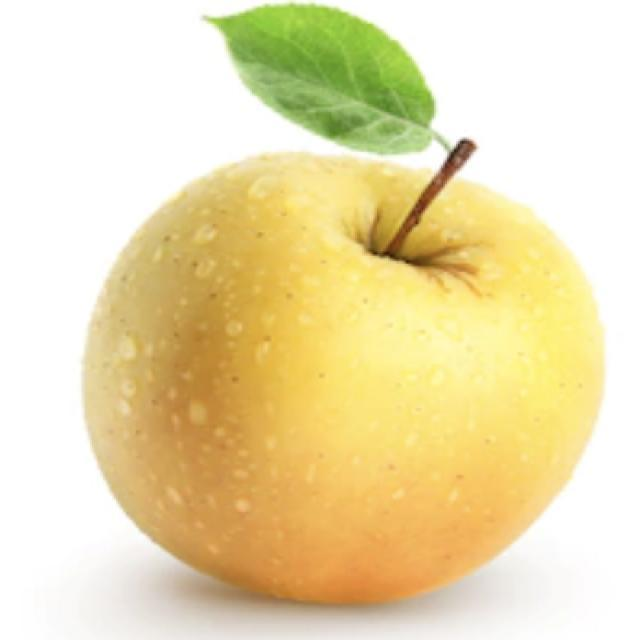Rotten: (98, 156, 575, 566)
